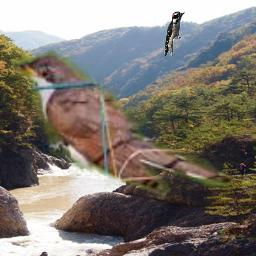Cuckoo: (11, 47, 234, 203)
Woodpecker: (164, 11, 185, 56)
